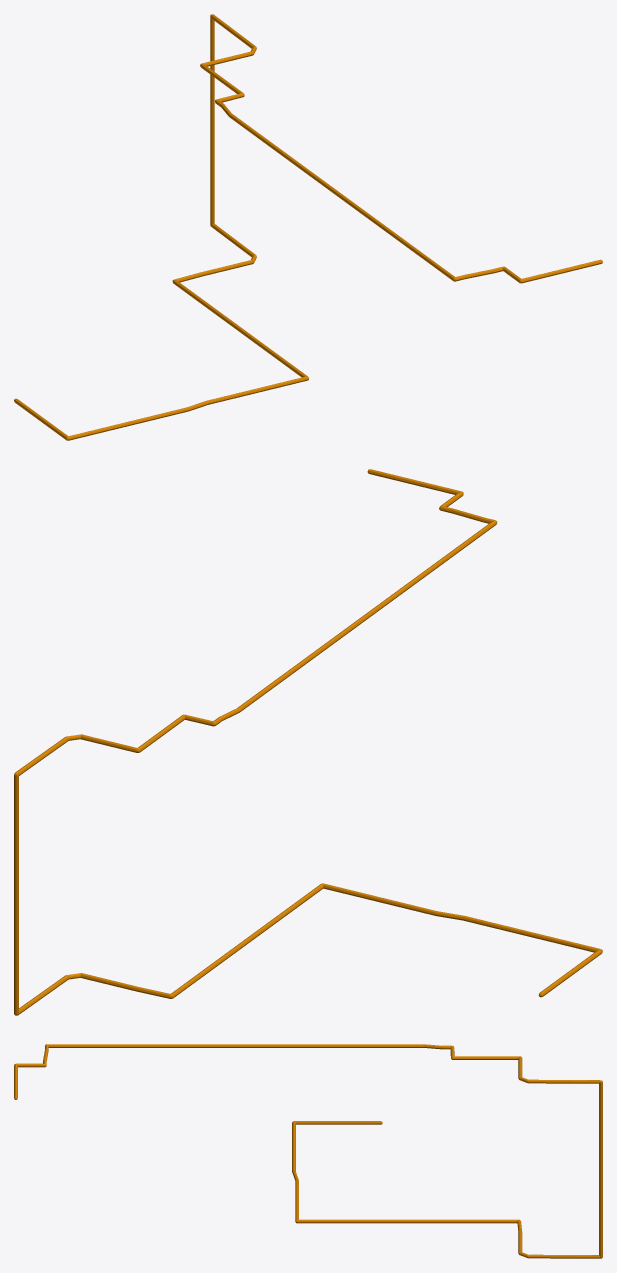
The picture shows the model from 3 angles, top to bottom: view 1: azimuth 30°, elevation 25°; view 2: azimuth 150°, elevation 25°; view 3: azimuth 270°, elevation 25°; orthographic projection. The views are drawn at different scales.
Bounding box in the file's own units: 1862 × 1020 × 3051.
